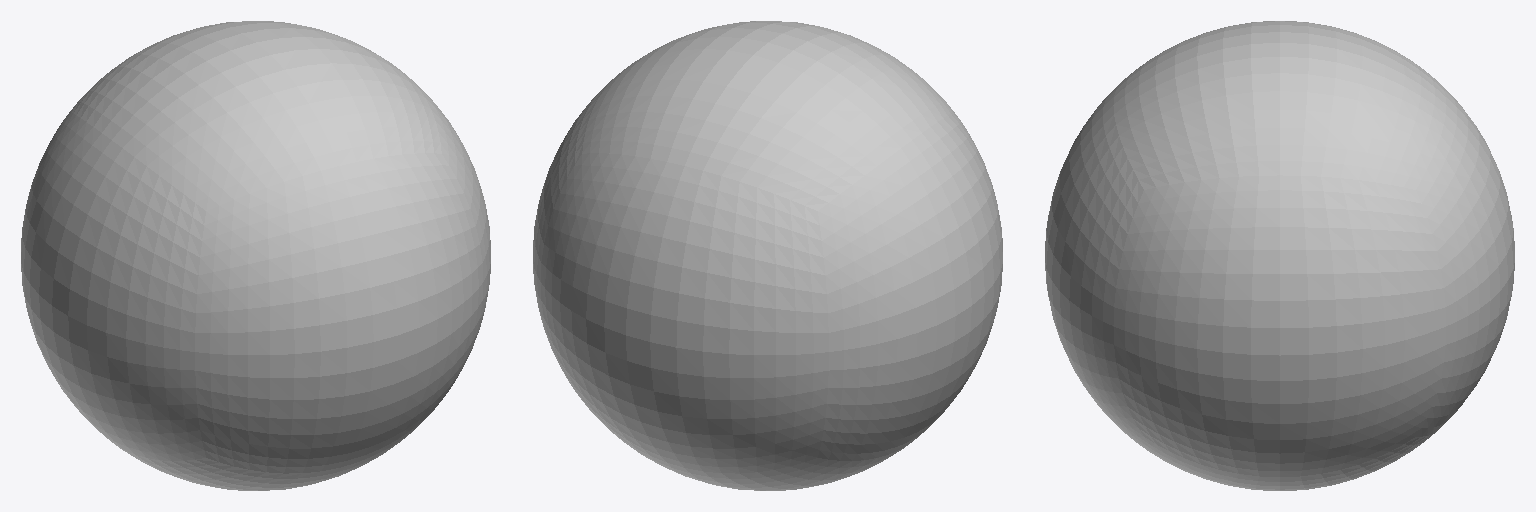
Rendered from sun.obj.
The picture shows the model from 3 angles: view 1: azimuth 30°, elevation 25°; view 2: azimuth 150°, elevation 25°; view 3: azimuth 270°, elevation 25°; orthographic projection.
Parts seen in each view (by area): view 1: 立方体; view 2: 立方体; view 3: 立方体.
Part boxes in pixels (x1,y1,x2,y2): 立方体: (21, 21, 490, 490); 立方体: (533, 21, 1002, 490); 立方体: (1045, 21, 1514, 490).
Bounding box in the file's own units: 2.57 × 2.57 × 2.57.